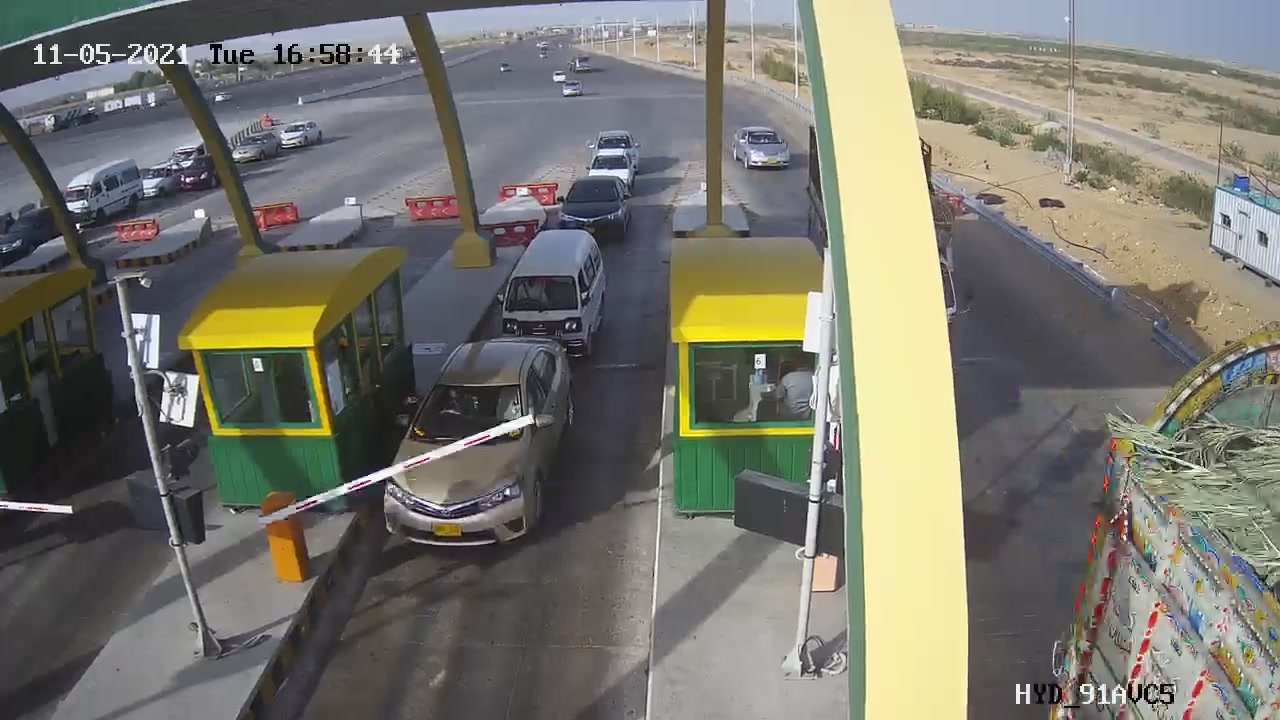F1: (361, 323, 596, 571), (474, 211, 619, 385), (544, 166, 652, 255)
